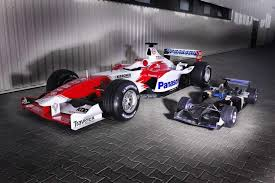FormulaOneCar: (17, 37, 211, 133)
